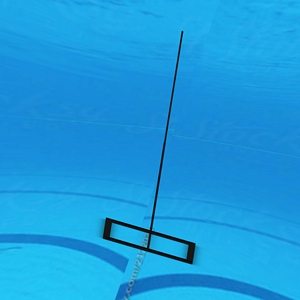circle: (102, 29, 202, 269)
